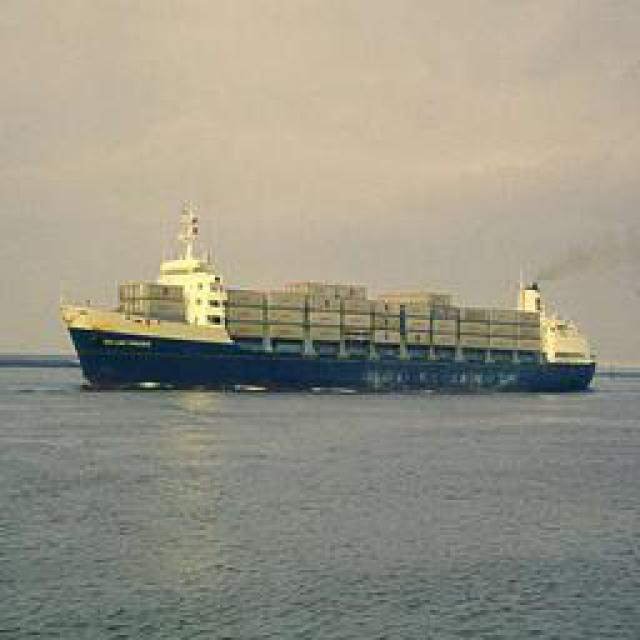Ship: (54, 211, 609, 399)
